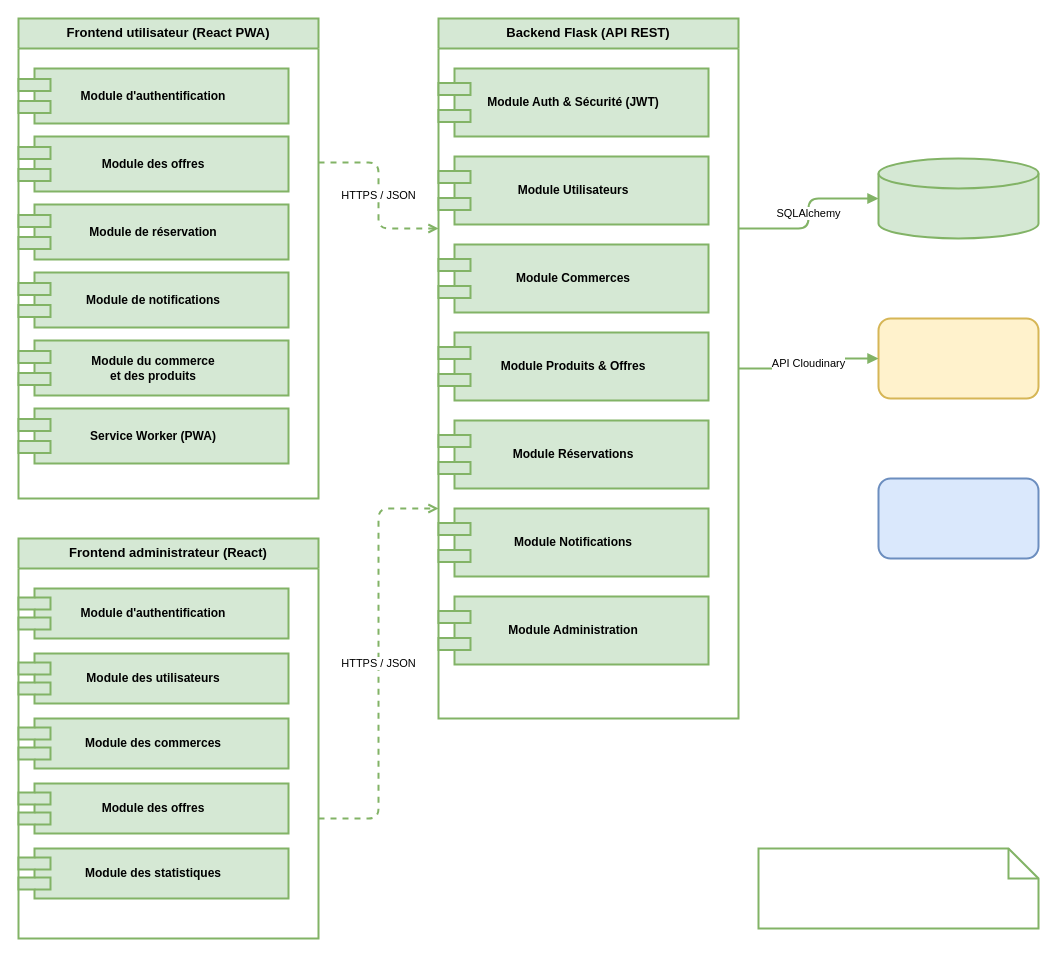
Image size: 1056x956. Some labels were removed from this diagram. The centre of each missing label's shape, as x and y in pixels:
"Cloudinary" goes at point (958, 358).
"Légende : — — → Interface fournie (dépendance) ——→ Appel direct (utilisation)" goes at point (898, 888).
"PostgreSQL (Neon)" goes at point (958, 198).
"SQLAlchemy + Alembic" goes at point (958, 518).
